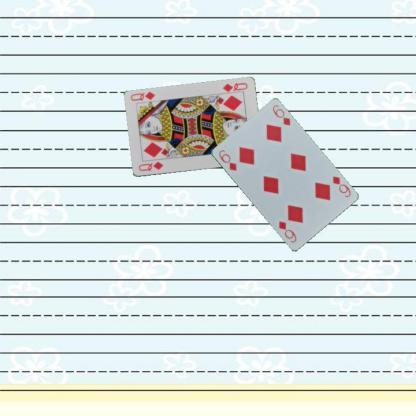6d: (216, 148, 238, 172), (330, 174, 352, 198)
Qd: (219, 80, 248, 96), (136, 158, 164, 172)
